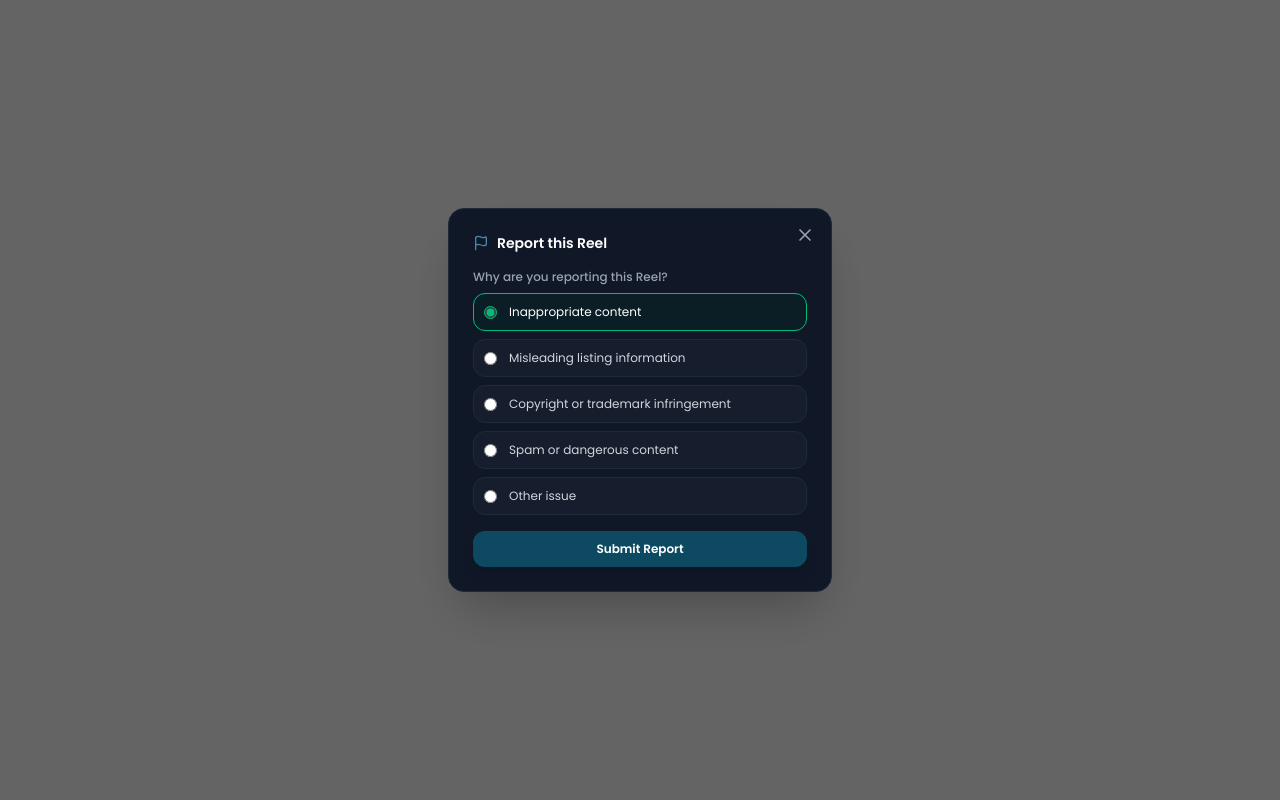
Phase 12 — Reel Rate Limits & Abuse Protection Frontend Suite › Report Modal Rate Limit (429 Handling) › handles 429 Too Many Requests gracefully when report limit is exceeded
What coordinates should you click on to do the following:
click the button "Submit Report"
I would click on:
 (640, 549)
Its box is [473,531,807,567].
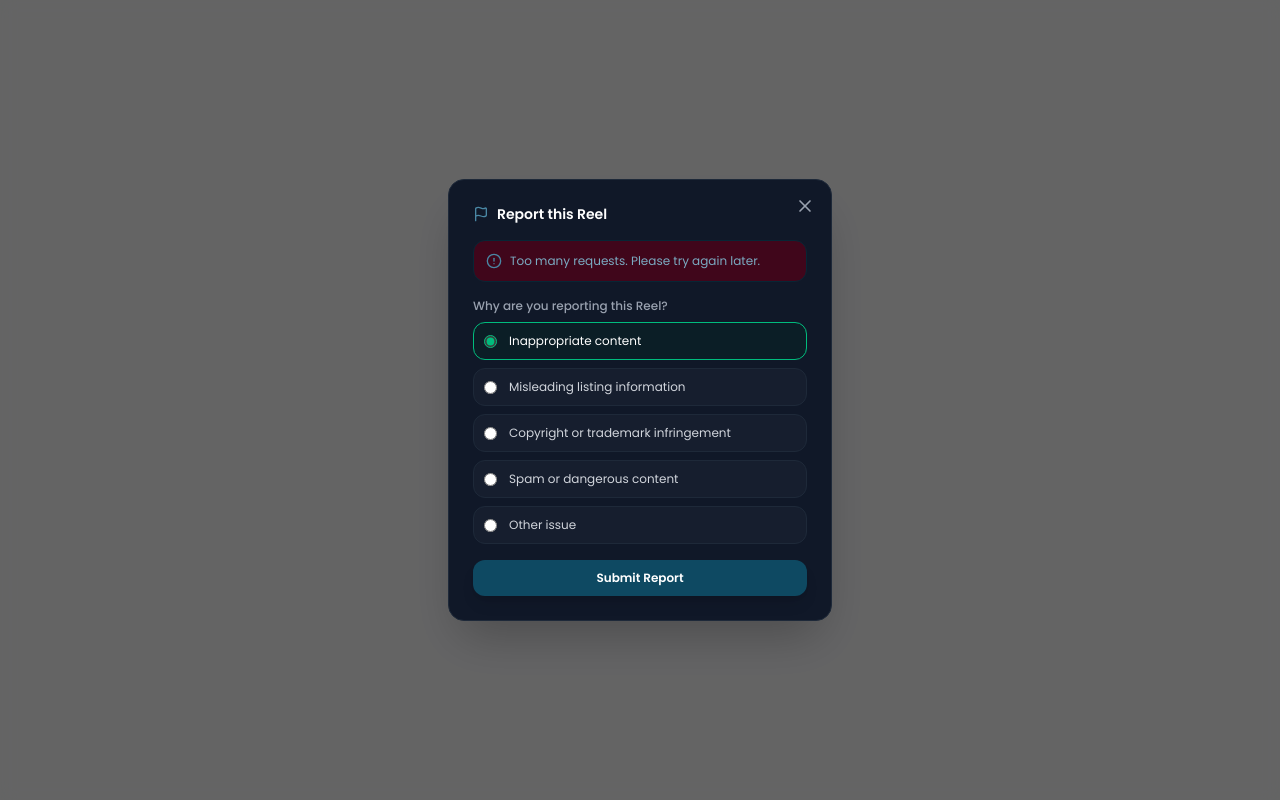
Now the text "Too many requests. Please try again later." is shown, box [510,253,760,269]
